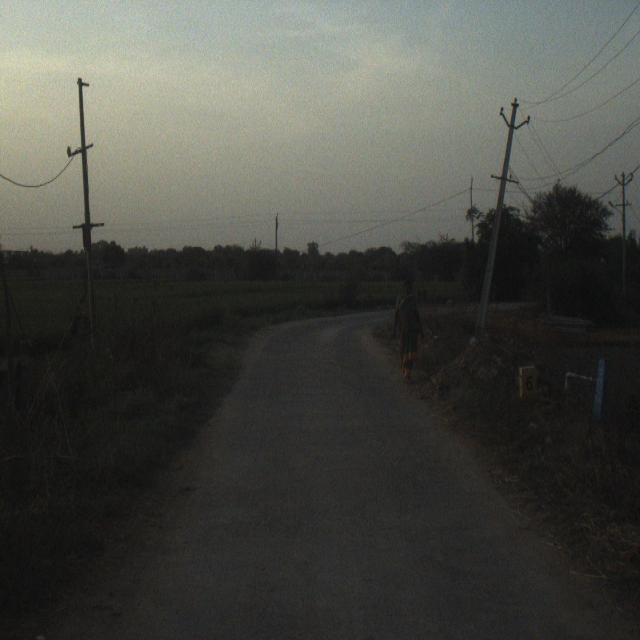high: (389, 266, 435, 403)
